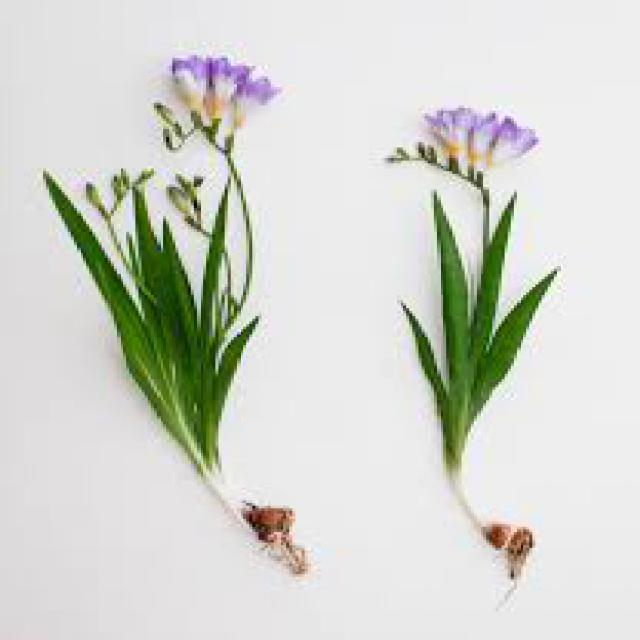freesia: (359, 90, 570, 199), (142, 46, 290, 162)
